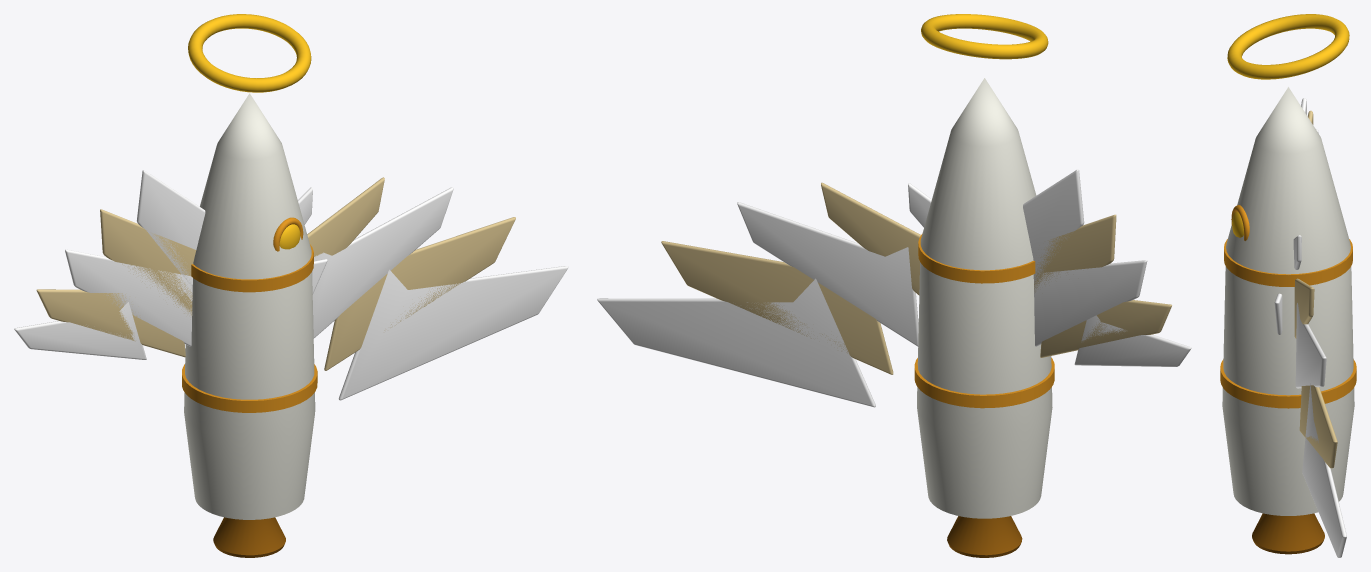
Rendered from Rocket_39_Angel.obj.
3 renders of one model, left to right at view 1: azimuth 30°, elevation 25°; view 2: azimuth 150°, elevation 25°; view 3: azimuth 270°, elevation 25°, orthographic. The views are drawn at different scales.
Parts seen in each view (by area): view 1: R39_Body, R39_WingFeather, R39_WingFeather_2, R39_WingFeather_3, R39_WingFeather_8, R39_WingFeather_7, R39_WingFeather_9, R39_Halo, R39_WingFeather_6, R39_WingFeather_10, R39_WingFeather_4, R39_Nozzle (+2 smaller); view 2: R39_Body, R39_WingFeather, R39_WingFeather_3, R39_WingFeather_2, R39_WingFeather_8, R39_WingFeather_4, R39_Halo, R39_WingFeather_6, R39_WingFeather_9, R39_WingFeather_10, R39_WingFeather_7, R39_Nozzle (+2 smaller); view 3: R39_Body, R39_Halo, R39_WingFeather, R39_Nozzle, R39_Band_2, R39_Band, R39_WingFeather_2, R39_WingFeather_3, R39_WingFeather_4, R39_WingFeather_6, R39_WindowFrame, R39_WingFeather_5 (+1 smaller).
Boxes of the visible parts, left/top/right/bottom form: R39_Body: left=184, top=93, right=315, bottom=519; R39_WingFeather: left=338, top=266, right=568, bottom=400; R39_WingFeather_2: left=324, top=217, right=515, bottom=370; R39_WingFeather_3: left=312, top=187, right=453, bottom=338; R39_WingFeather_8: left=65, top=249, right=192, bottom=346; R39_WingFeather_7: left=100, top=209, right=196, bottom=315; R39_WingFeather_9: left=36, top=280, right=185, bottom=357; R39_Halo: left=188, top=14, right=311, bottom=92; R39_WingFeather_6: left=136, top=170, right=327, bottom=294; R39_WingFeather_10: left=14, top=302, right=146, bottom=359; R39_WingFeather_4: left=307, top=177, right=384, bottom=256; R39_Nozzle: left=213, top=517, right=285, bottom=557; R39_Body: left=917, top=78, right=1052, bottom=518; R39_WingFeather: left=597, top=278, right=875, bottom=407; R39_WingFeather_3: left=737, top=202, right=918, bottom=346; R39_WingFeather_2: left=661, top=241, right=893, bottom=374; R39_WingFeather_8: left=1034, top=260, right=1147, bottom=346; R39_WingFeather_4: left=821, top=182, right=920, bottom=295; R39_Halo: left=921, top=14, right=1048, bottom=59; R39_WingFeather_6: left=1023, top=169, right=1084, bottom=283; R39_WingFeather_9: left=1040, top=300, right=1171, bottom=357; R39_WingFeather_10: left=1074, top=315, right=1191, bottom=366; R39_WingFeather_7: left=1033, top=214, right=1116, bottom=292; R39_Nozzle: left=947, top=516, right=1022, bottom=557; R39_Body: left=1222, top=87, right=1354, bottom=515; R39_Halo: left=1227, top=14, right=1349, bottom=79; R39_WingFeather: left=1302, top=383, right=1346, bottom=557; R39_Nozzle: left=1252, top=513, right=1324, bottom=554; R39_Band_2: left=1224, top=239, right=1352, bottom=286; R39_Band: left=1220, top=359, right=1356, bottom=408; R39_WingFeather_2: left=1299, top=385, right=1337, bottom=468; R39_WingFeather_3: left=1295, top=303, right=1326, bottom=388; R39_WingFeather_4: left=1294, top=278, right=1314, bottom=338; R39_WingFeather_6: left=1274, top=98, right=1306, bottom=334; R39_WindowFrame: left=1231, top=205, right=1249, bottom=240; R39_WingFeather_5: left=1293, top=235, right=1301, bottom=269.
Bounding box in the file's own units: 8.92 × 7.65 × 1.86.
